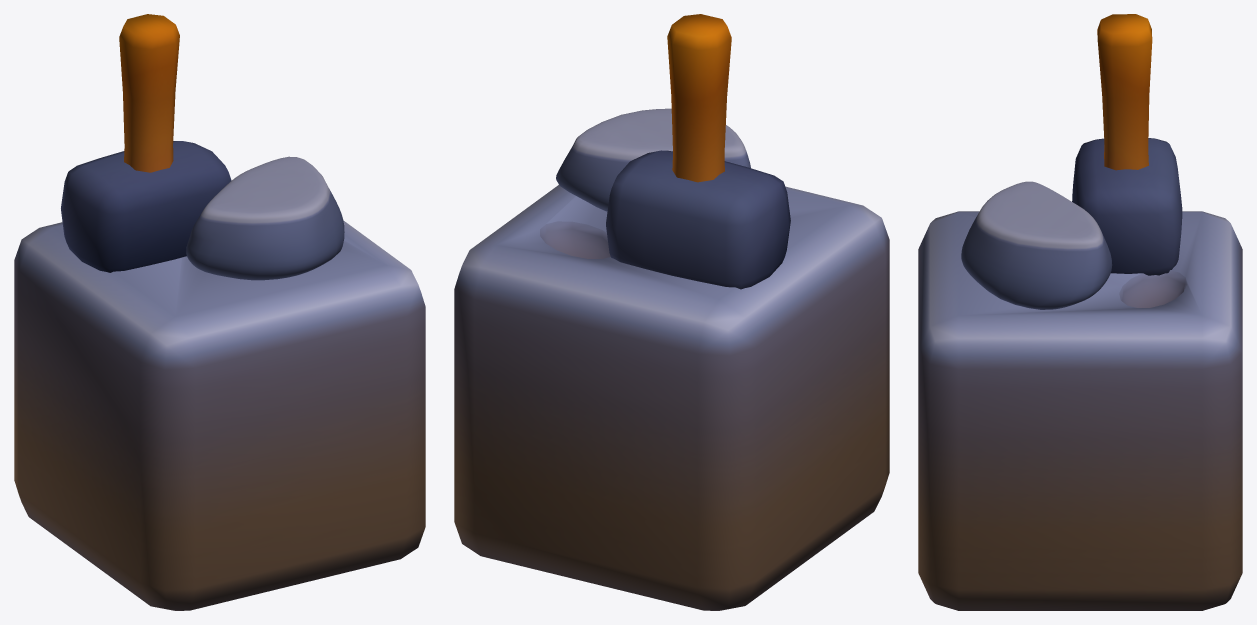
File: block_rock_hammer.fbx
3 views of the same model, side by side, from view 1: azimuth 30°, elevation 25°; view 2: azimuth 150°, elevation 25°; view 3: azimuth 270°, elevation 25° (orthographic). The views are drawn at different scales.
Parts seen in each view (by area): view 1: block_rock.001; view 2: block_rock.001; view 3: block_rock.001.
Boxes of the visible parts, x1,y1,x2,y2 form: block_rock.001: (14,14,425,610); block_rock.001: (454,14,889,610); block_rock.001: (918,14,1242,610).
Bounding box in the file's own units: 200 × 347 × 200.
